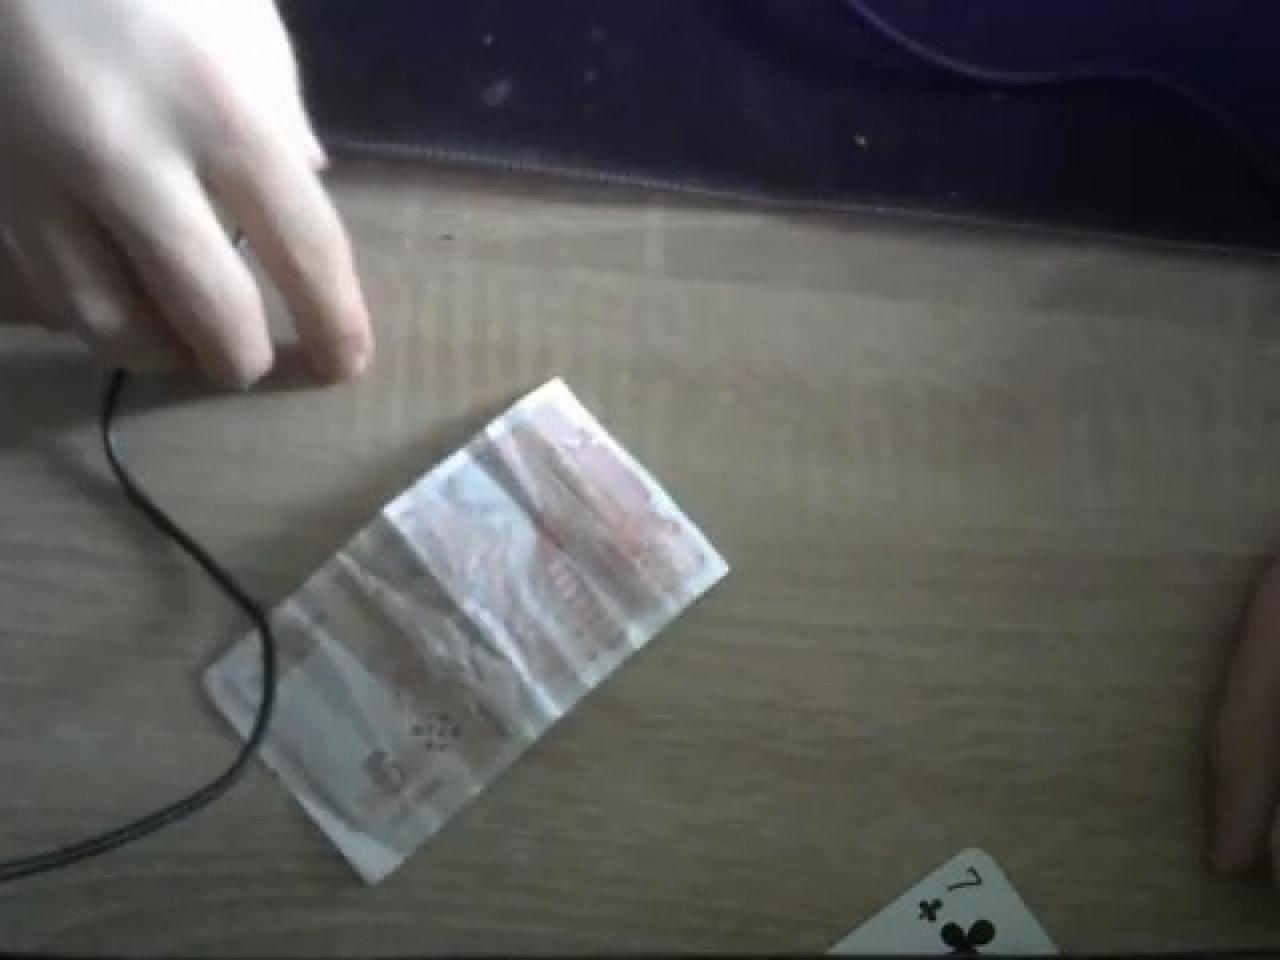5leva: (191, 379, 731, 890)
